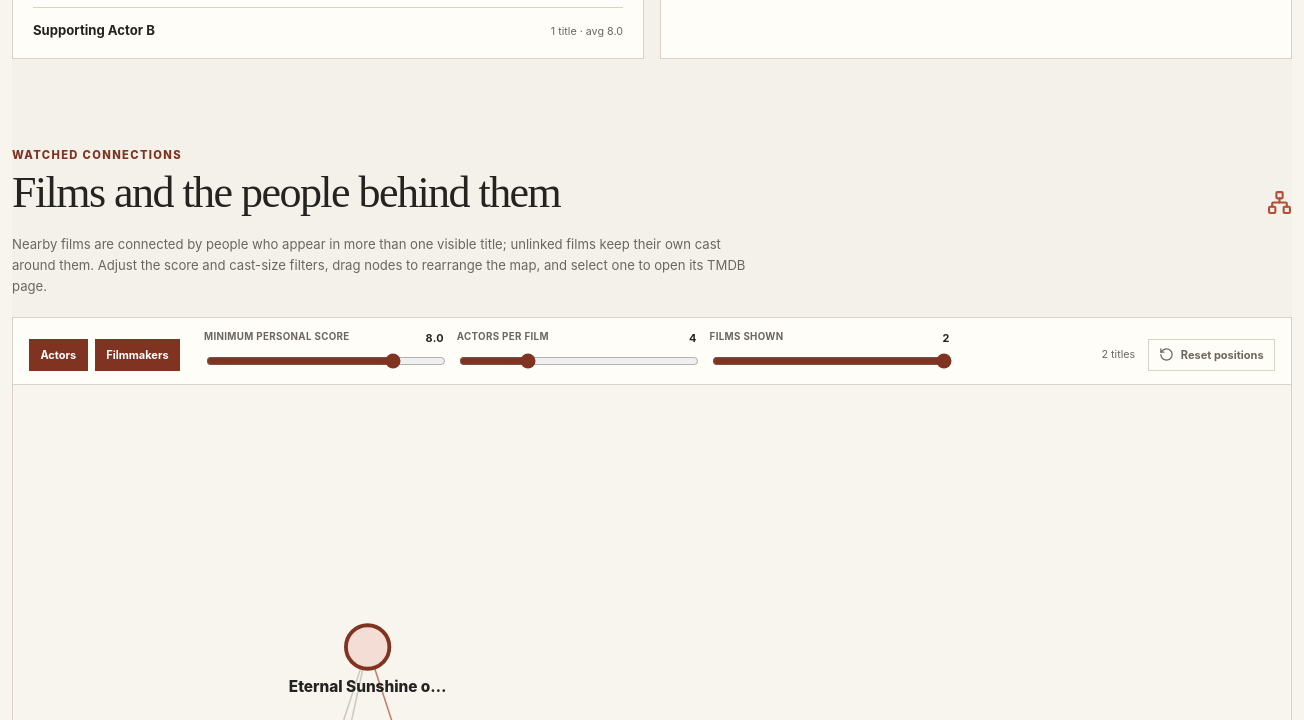
personal taste profile › limits visible films by highest personal score
The image size is (1304, 720).
(page scrolled)
Set the slider labelled "Films shown" to "1" at {"x": 720, "y": 361}, box [712,353,952,369]
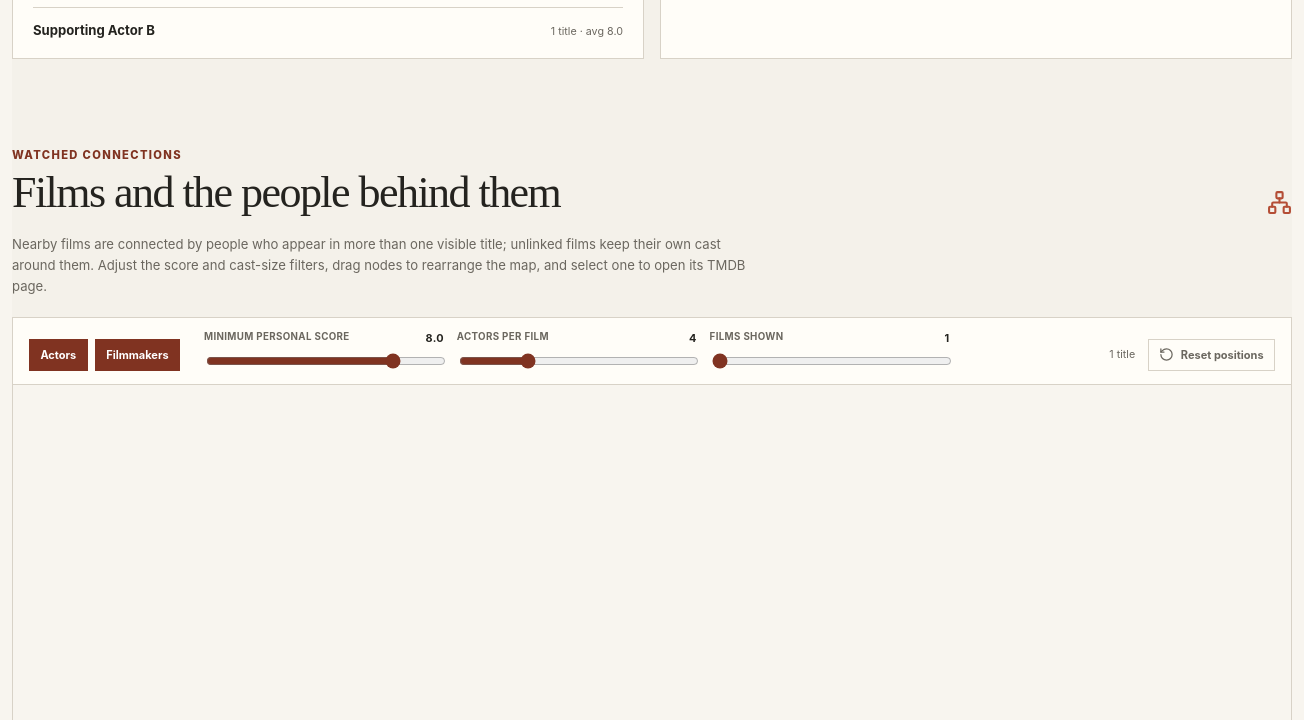
expect the text "1 title" is shown: met, box [1109,348,1135,361]
